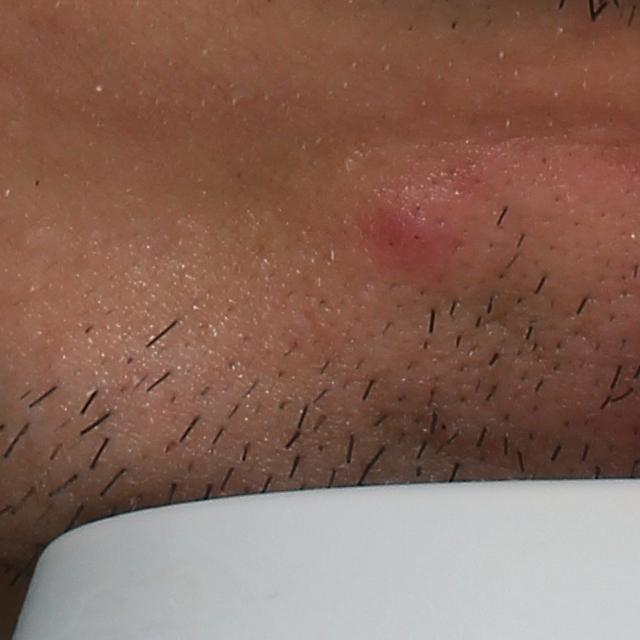papule: (357, 192, 459, 289)
